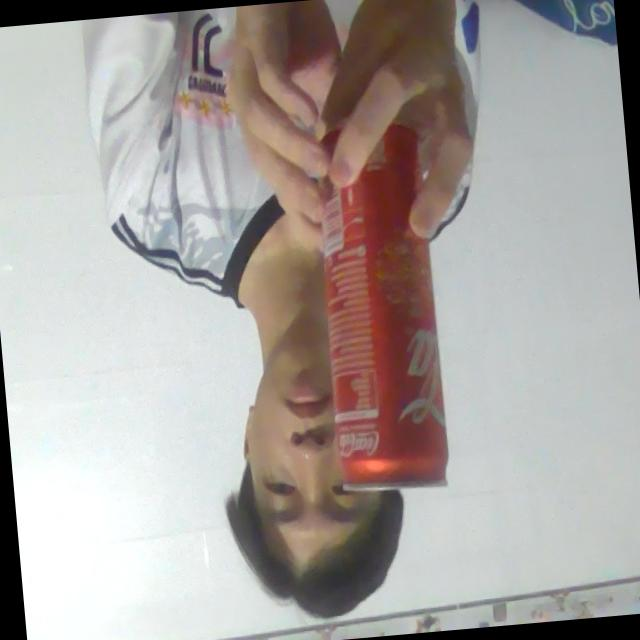cocacola: (294, 106, 472, 512)
